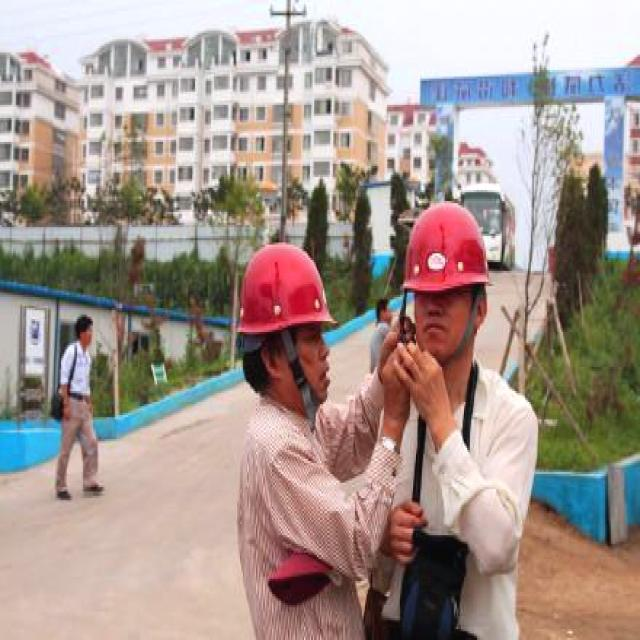face_nomask: (276, 326, 341, 422), (407, 293, 464, 358), (78, 326, 95, 348)
hand_noglove: (374, 319, 409, 437), (406, 350, 451, 441), (384, 498, 433, 566), (58, 389, 70, 419)
head_helmet: (397, 188, 508, 293), (233, 242, 336, 336)
head_nohelmet: (71, 314, 93, 330)
person: (361, 186, 529, 634), (243, 236, 366, 636), (54, 312, 110, 504)
